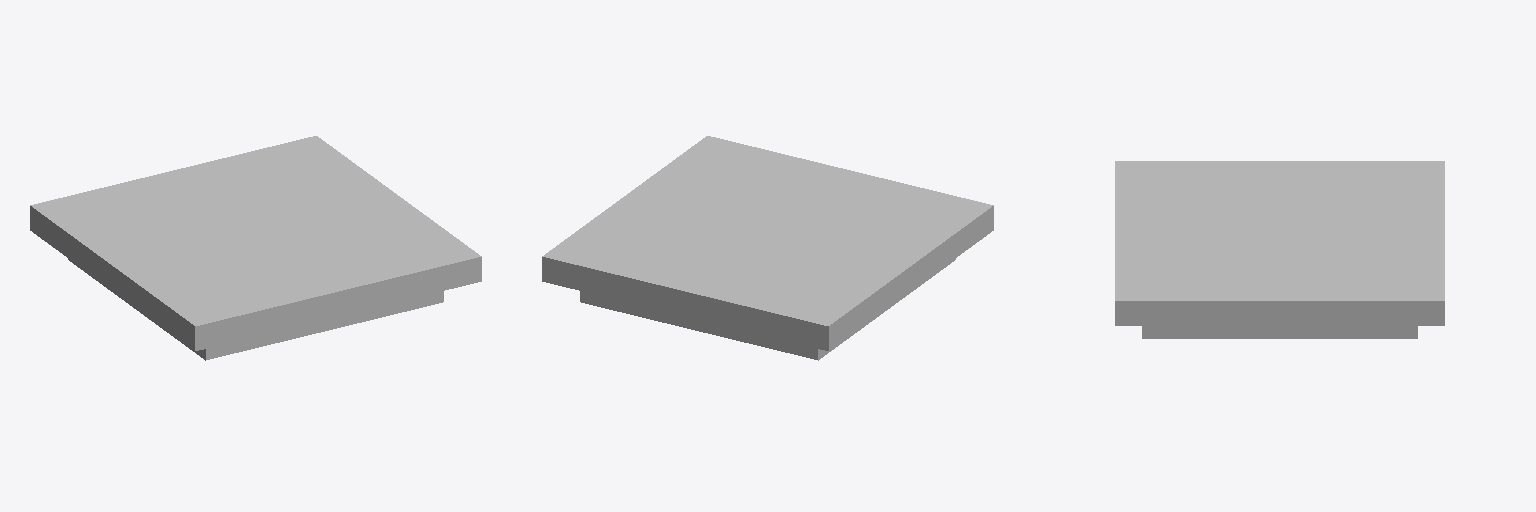
File: OBJFloor_Indented.obj
3 renders of one model, left to right at view 1: azimuth 30°, elevation 25°; view 2: azimuth 150°, elevation 25°; view 3: azimuth 270°, elevation 25°, orthographic.
Visible parts, largest first — view 1: Floor_Indented; view 2: Floor_Indented; view 3: Floor_Indented.
Part boxes in pixels (x1,y1,x2,y2): Floor_Indented: (30, 136, 481, 360); Floor_Indented: (542, 136, 993, 360); Floor_Indented: (1115, 161, 1444, 338).
Size of the model in its own units: 3 by 0.5 by 3.